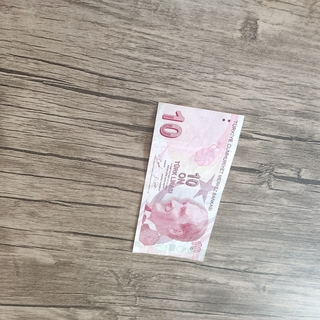10TLFront: (130, 100, 245, 263)
